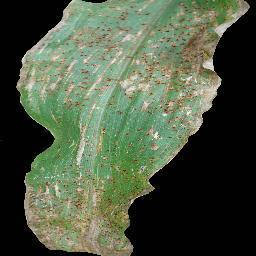Corn_Common_Rust: (13, 0, 251, 138), (96, 137, 188, 256), (23, 137, 97, 256)
